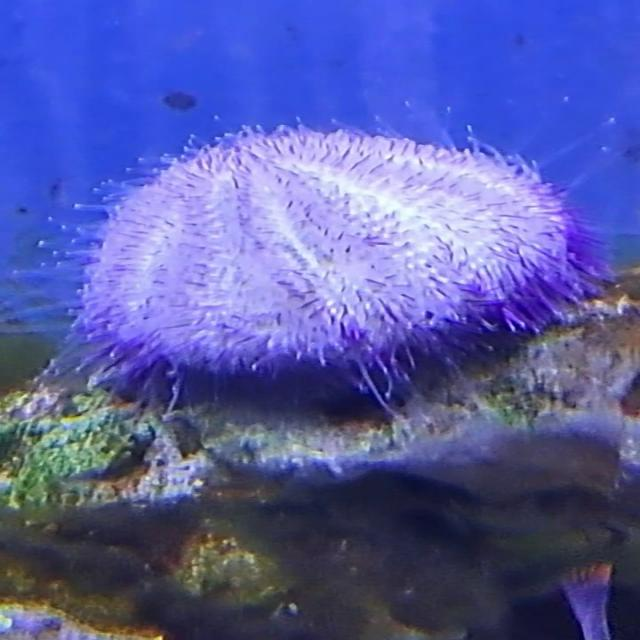Deniz Kestanesi: (29, 121, 612, 403)
